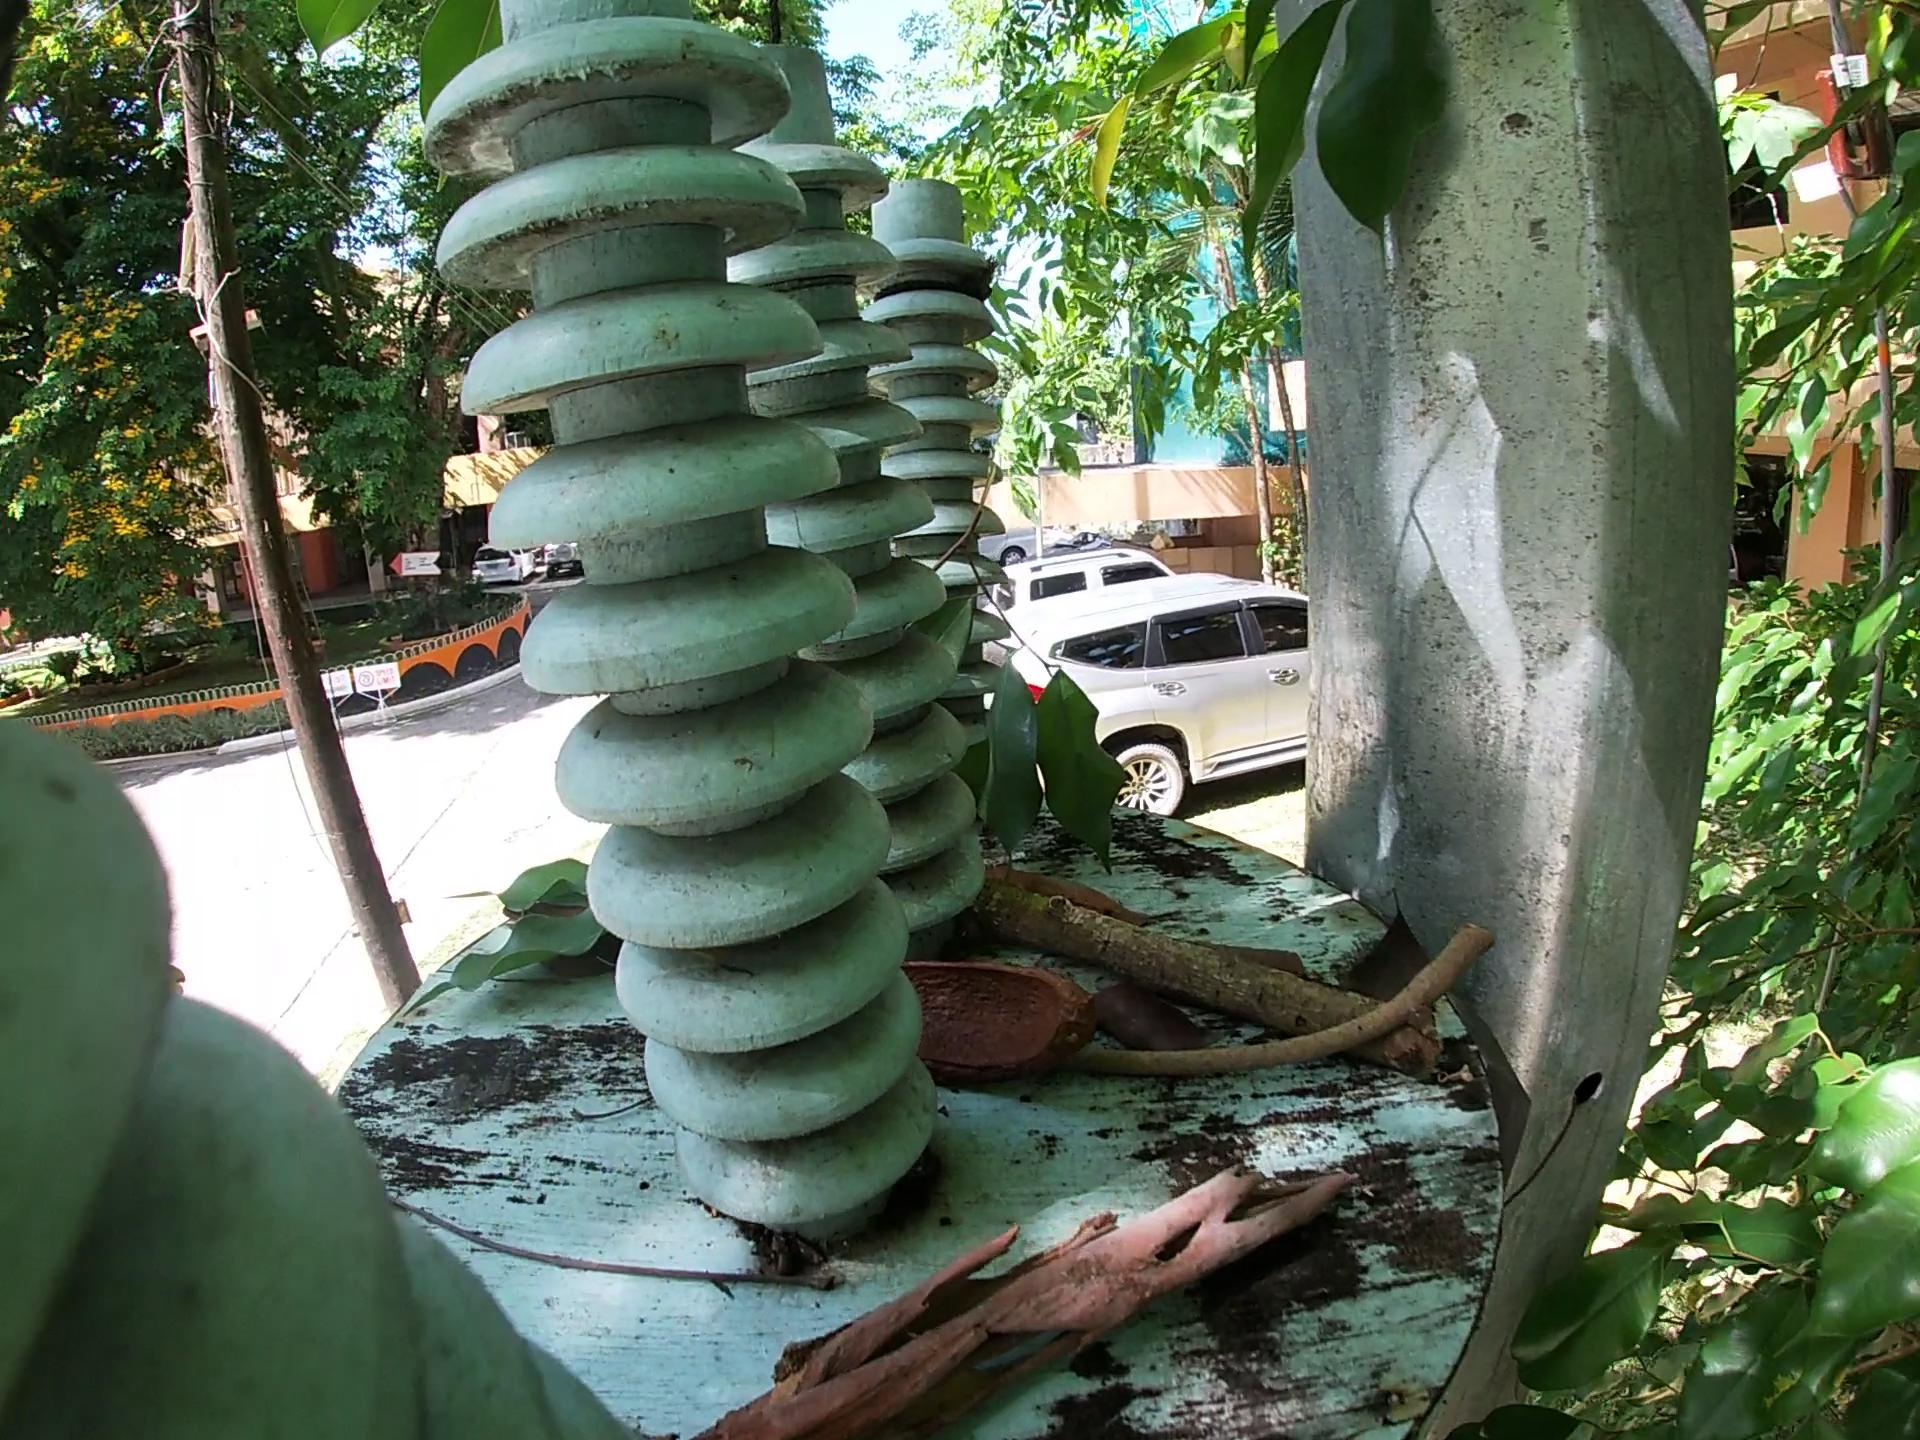branch with leaves: (912, 439, 1147, 849)
leaf: (379, 871, 624, 1024), (1079, 974, 1229, 1050), (1022, 867, 1138, 917), (1200, 933, 1311, 964)
mahogany fruit: (880, 948, 1101, 1098)
tree branch: (618, 1156, 1401, 1440), (984, 870, 1445, 1072), (1079, 924, 1525, 1080), (364, 1184, 838, 1314)
